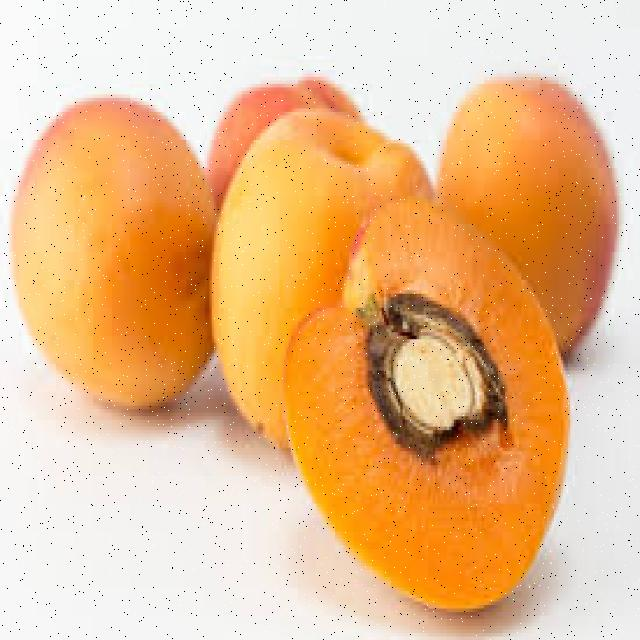Cekirdek: (358, 294, 505, 451)
Kayisi: (12, 98, 212, 402)
